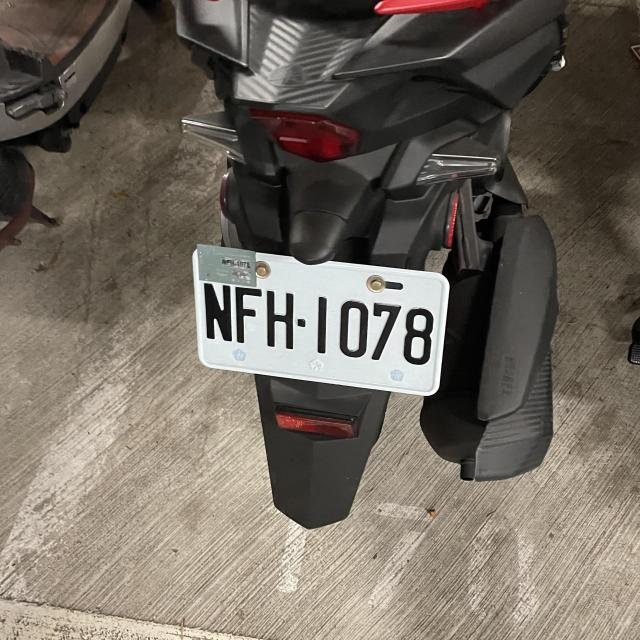W: (186, 248, 450, 395)
